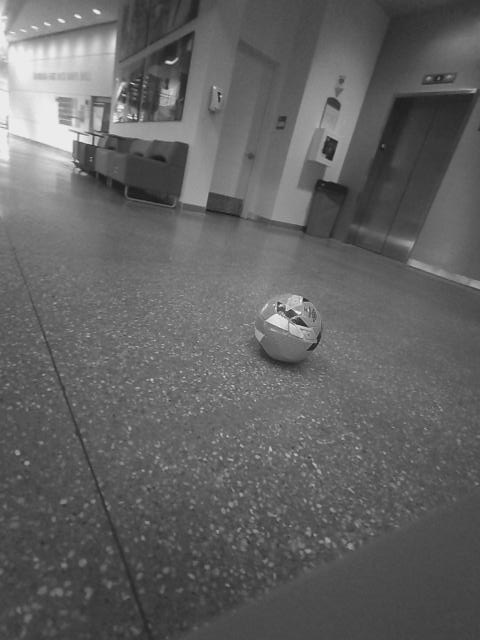ball: (8, 445, 147, 640)
